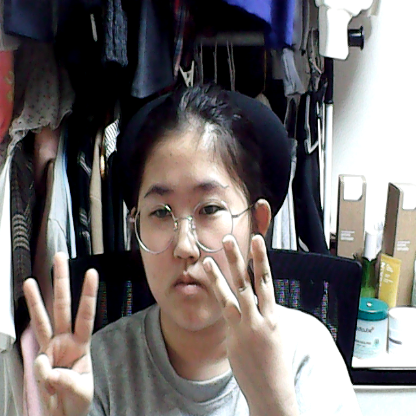Finger_3: (202, 227, 305, 402), (13, 238, 109, 416)
